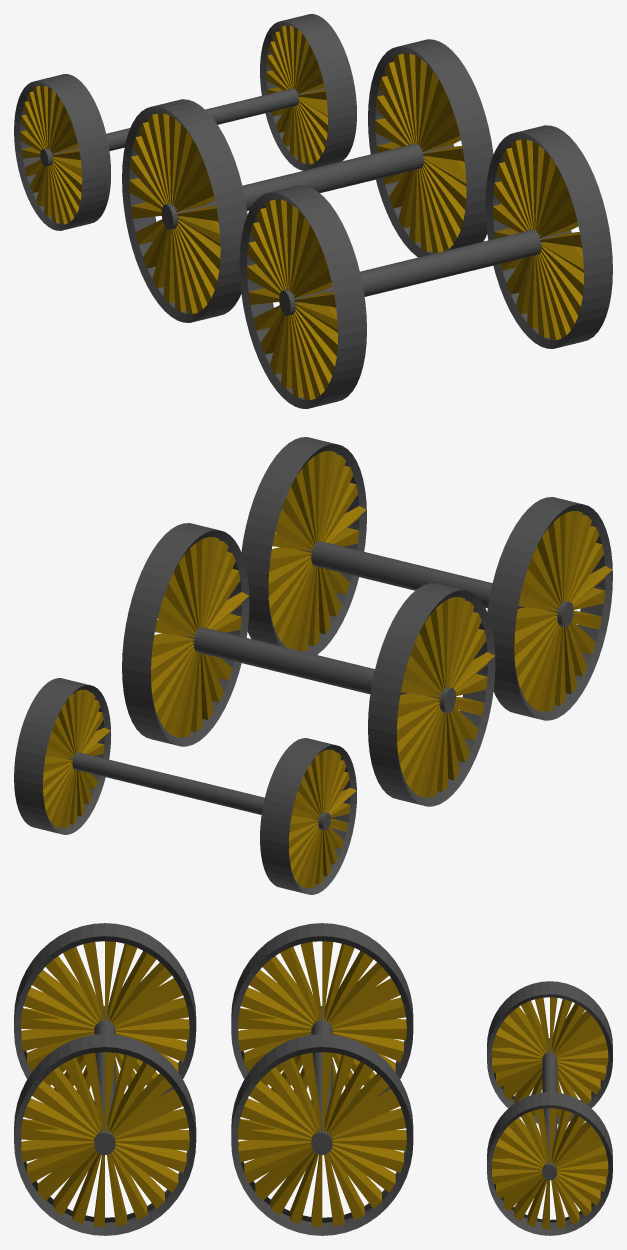
The model's file is gladstone-wheels.dae.
The picture shows the model from 3 angles, top to bottom: view 1: azimuth 30°, elevation 25°; view 2: azimuth 150°, elevation 25°; view 3: azimuth 270°, elevation 25°; orthographic projection. The views are drawn at different scales.
Visible parts, largest first — view 1: Cylinder_015, Cylinder_012, Cylinder_022; view 2: Cylinder_012, Cylinder_015, Cylinder_022; view 3: Cylinder_012, Cylinder_015, Cylinder_022.
Boxes of the visible parts, bbox=[...] form: Cylinder_015: bbox=[239, 125, 612, 408]; Cylinder_012: bbox=[122, 39, 493, 322]; Cylinder_022: bbox=[14, 14, 356, 230]; Cylinder_012: bbox=[122, 523, 495, 806]; Cylinder_015: bbox=[241, 437, 612, 720]; Cylinder_022: bbox=[14, 678, 356, 894]; Cylinder_012: bbox=[231, 923, 413, 1235]; Cylinder_015: bbox=[14, 923, 196, 1235]; Cylinder_022: bbox=[487, 981, 612, 1235].
Size of the model in its own units: 1.84 by 3.66 by 1.27.
